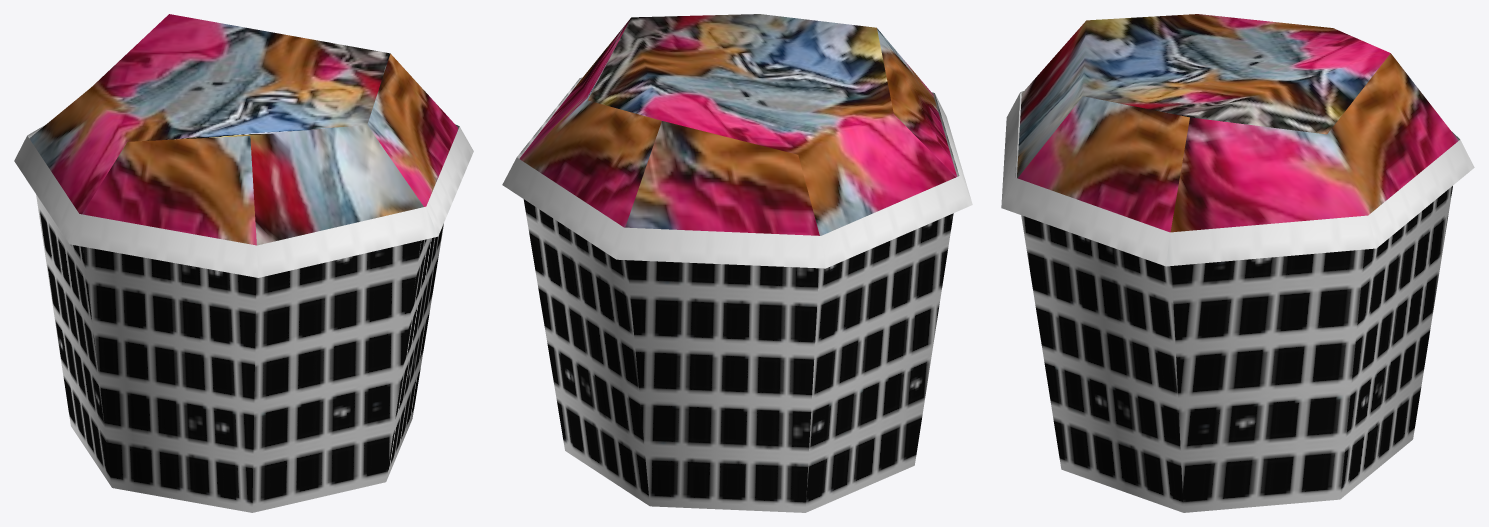
The picture shows the model from 3 angles, left to right: view 1: azimuth 30°, elevation 25°; view 2: azimuth 150°, elevation 25°; view 3: azimuth 270°, elevation 25°; orthographic projection. The views are drawn at different scales.
Parts seen in each view (by area): view 1: Basket_01001_Plastic_10_0, Dirty__clothes_01001_Dirty__clothes_0; view 2: Basket_01001_Plastic_10_0, Dirty__clothes_01001_Dirty__clothes_0; view 3: Basket_01001_Plastic_10_0, Dirty__clothes_01001_Dirty__clothes_0.
Boxes of the visible parts, box(x1,y1,x2,y2) form: Basket_01001_Plastic_10_0: box(14, 124, 473, 512); Dirty__clothes_01001_Dirty__clothes_0: box(29, 14, 457, 245); Basket_01001_Plastic_10_0: box(502, 77, 972, 512); Dirty__clothes_01001_Dirty__clothes_0: box(519, 14, 956, 235); Basket_01001_Plastic_10_0: box(1001, 91, 1474, 512); Dirty__clothes_01001_Dirty__clothes_0: box(1017, 14, 1458, 232).
Size of the model in its own units: 0.6168 by 0.544 by 0.6048.
2 materials, 2 textured.
